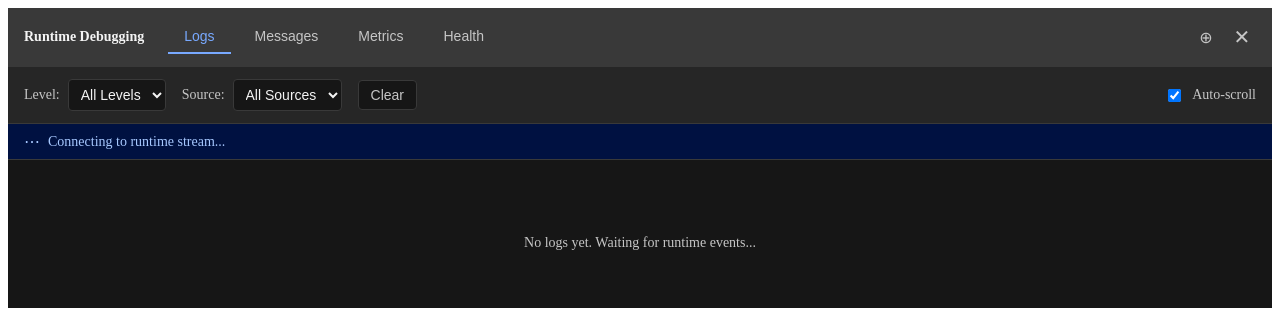
RuntimePanel › Tab Navigation › should switch to Health tab when clicked
Click the tab with test id "tab-health". click: [464, 37]
box: [428,20,500,54]
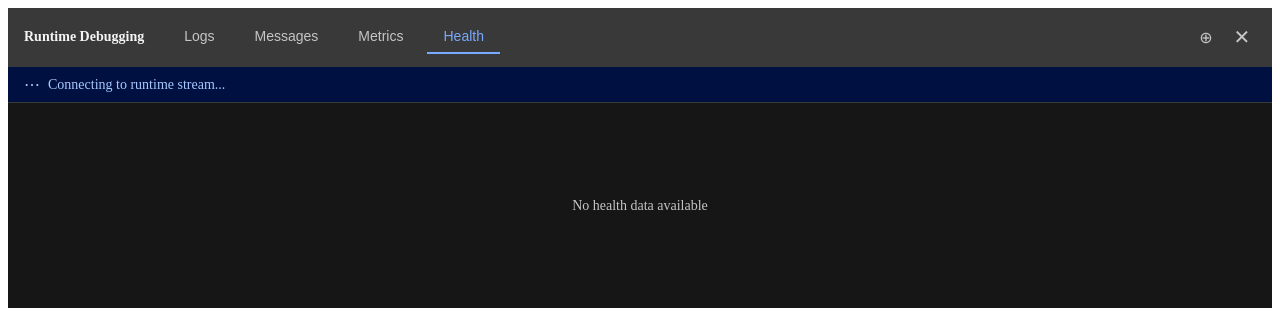
Check: the panel with test id "health-panel" is shown
